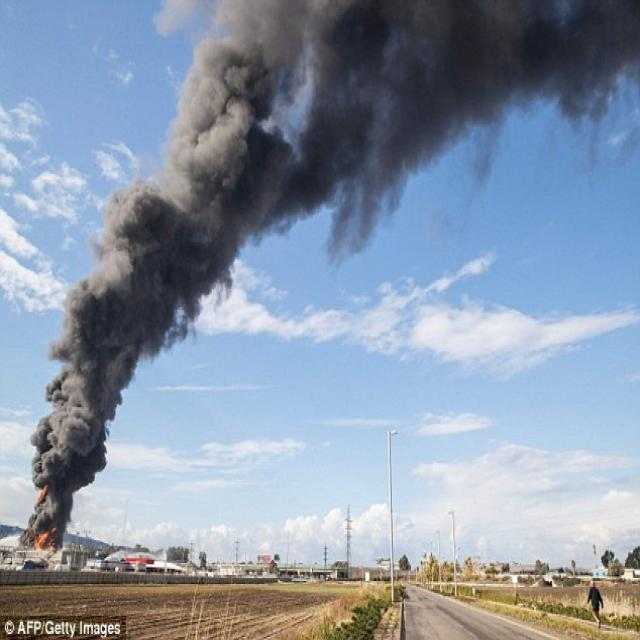Smoke: (22, 0, 639, 546)
